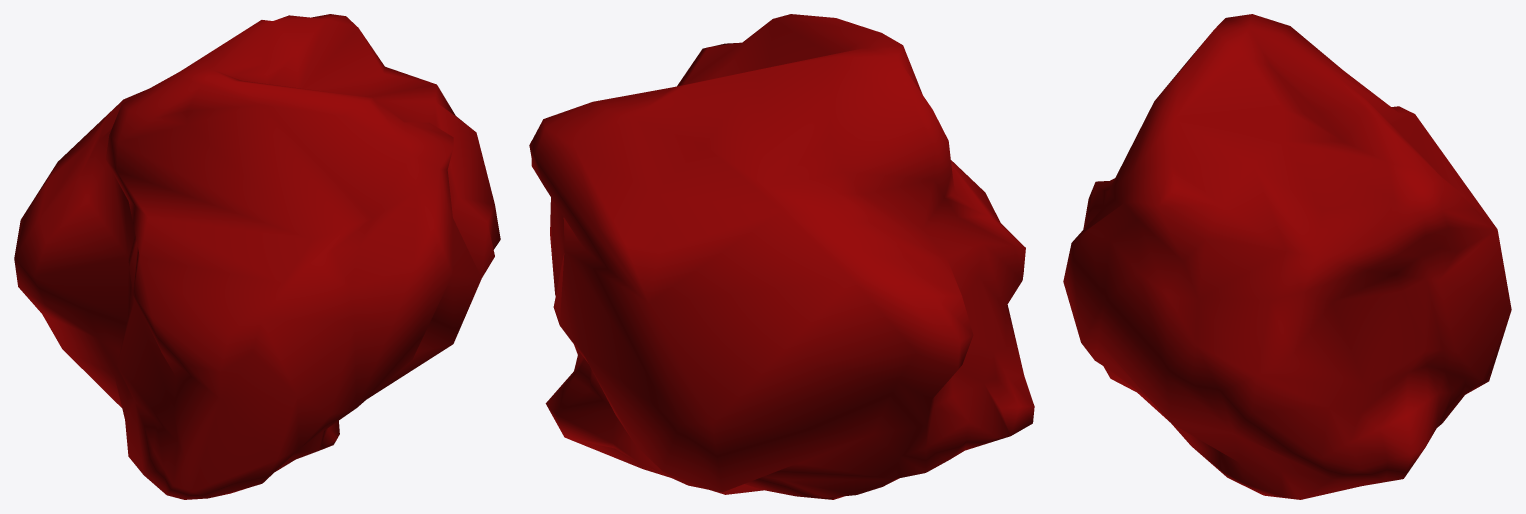
Rendered from Asteroid3.FBX.
The picture shows the model from 3 angles, left to right: view 1: azimuth 30°, elevation 25°; view 2: azimuth 150°, elevation 25°; view 3: azimuth 270°, elevation 25°; orthographic projection. The views are drawn at different scales.
Visible parts, largest first — view 1: Sphere07; view 2: Sphere07; view 3: Sphere07.
Boxes of the visible parts, x1=… form: Sphere07: x1=14, y1=14, x2=500, y2=499; Sphere07: x1=529, y1=14, x2=1034, y2=499; Sphere07: x1=1063, y1=14, x2=1511, y2=499.
Size of the model in its own units: 735 by 670 by 658.
